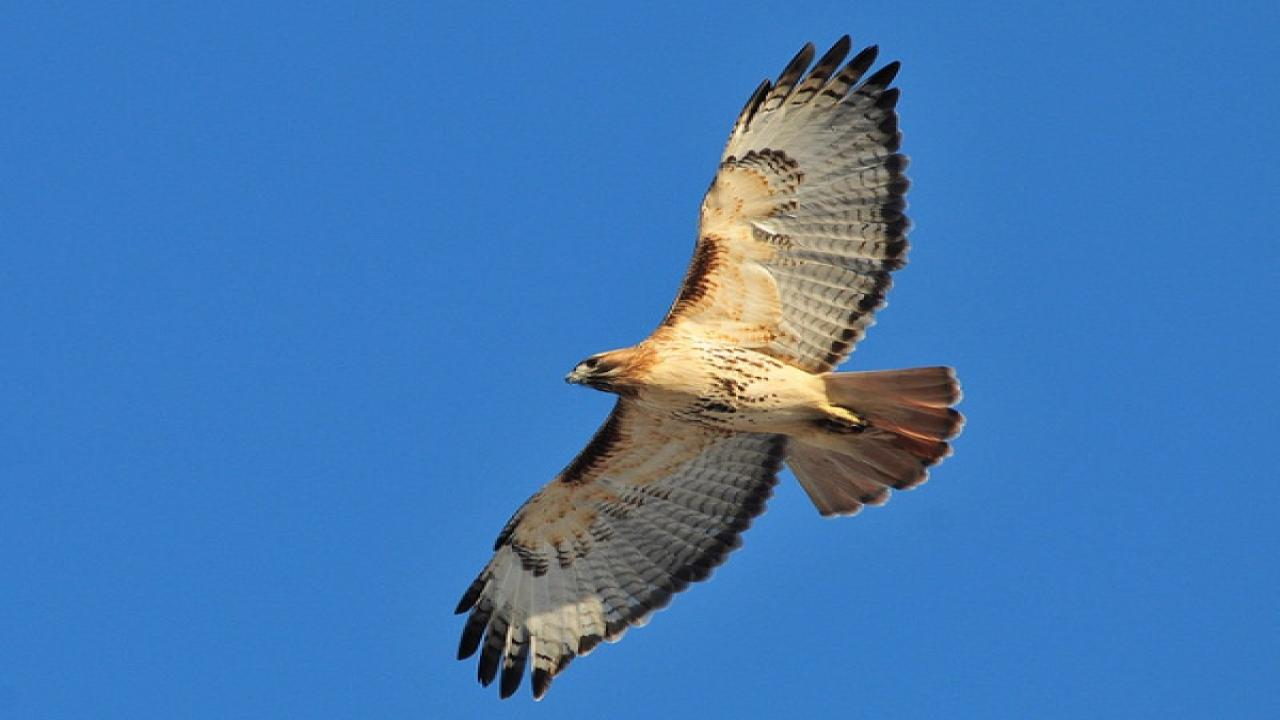Bird: (437, 31, 972, 709)
